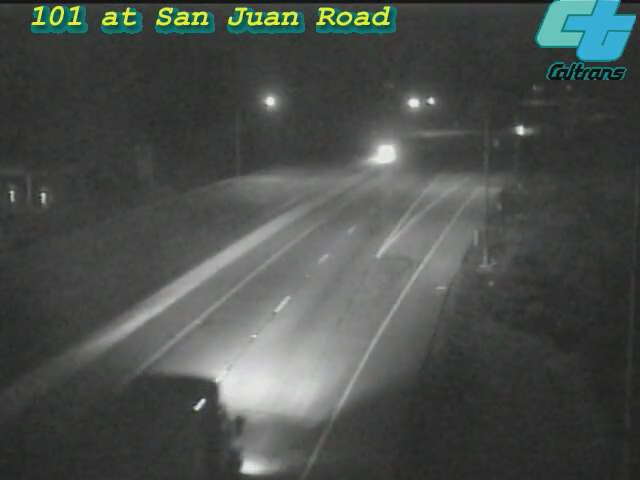vehicle: (328, 98, 438, 208), (100, 379, 210, 480), (496, 104, 546, 154)
